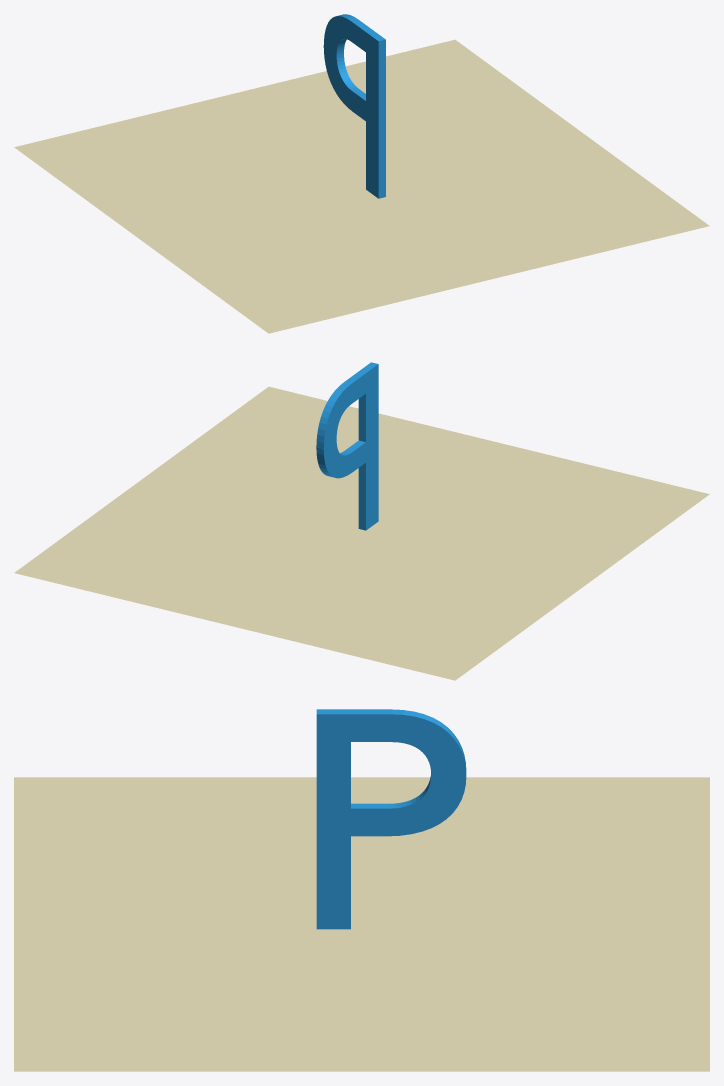
File: parking_placeholder.glb
The picture shows the model from 3 angles, top to bottom: view 1: azimuth 30°, elevation 25°; view 2: azimuth 150°, elevation 25°; view 3: azimuth 270°, elevation 25°; orthographic projection. The views are drawn at different scales.
Parts seen in each view (by area): view 1: Plane; view 2: Plane; view 3: Plane.
Part boxes in pixels (x1=…): Plane: x1=14, y1=14, x2=709, y2=333; Plane: x1=14, y1=362, x2=709, y2=680; Plane: x1=14, y1=709, x2=709, y2=1071.
Size of the model in its own units: 20 by 6.82 by 20.
